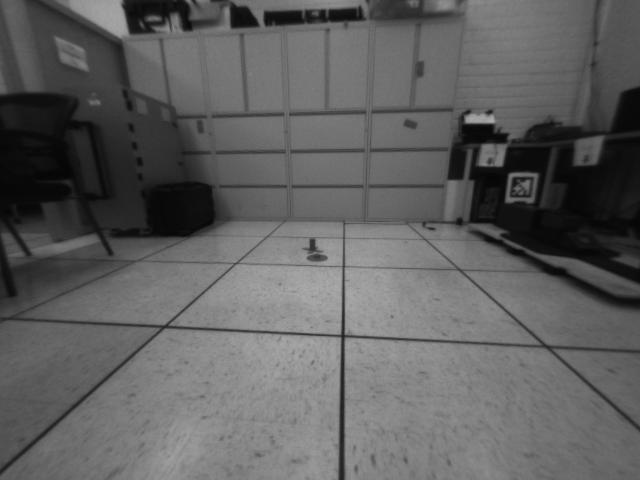X: (303, 237, 322, 254)
